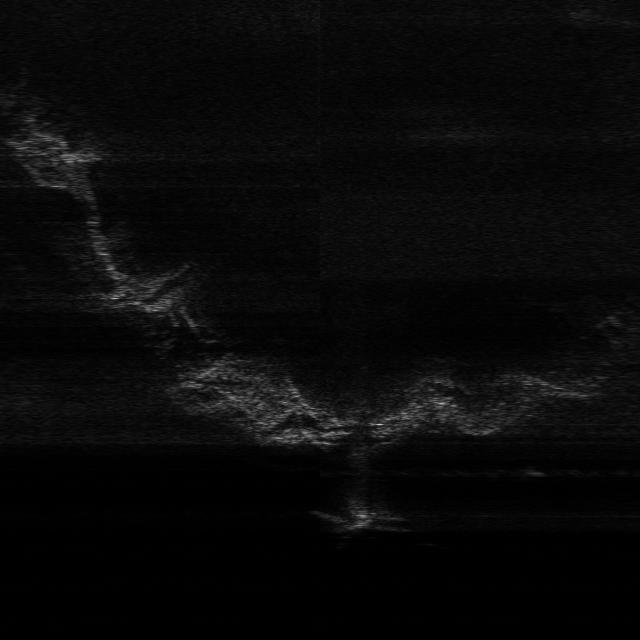plane: (311, 504, 413, 535)
